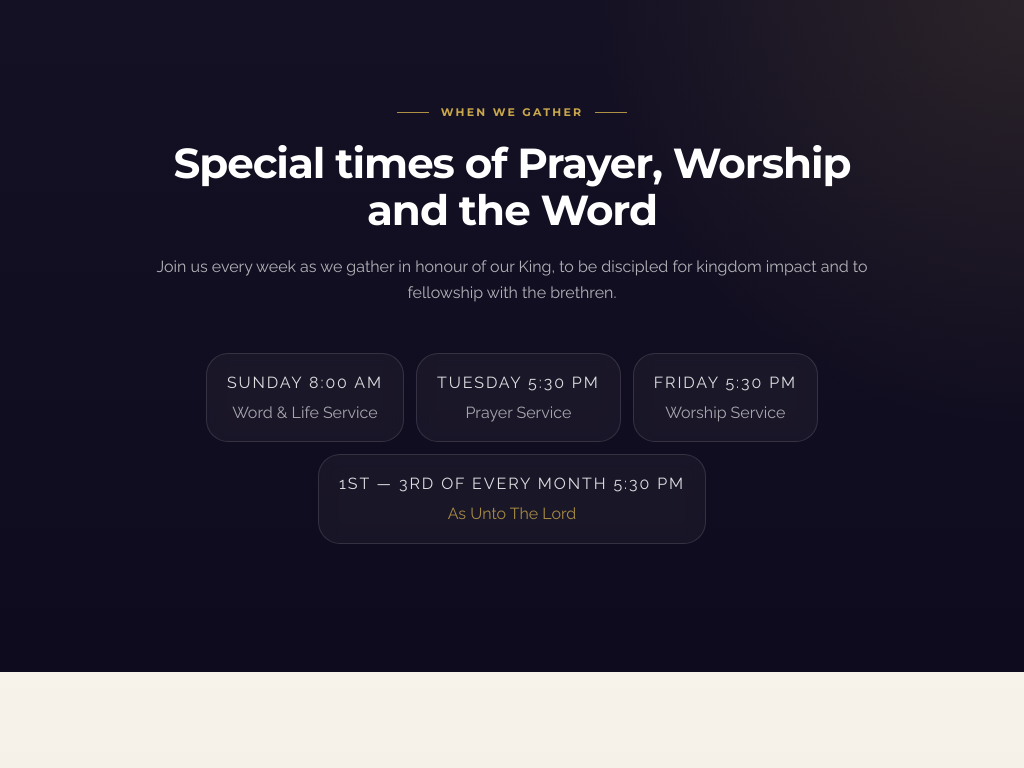
Test case: ServiceSchedule › clicking Word & Life Service marks it active and shows it in the detail card
Click the button "Sunday 8:00 AM Word & Life Service" at (305, 398), box x1=206 y1=353 x2=404 y2=442
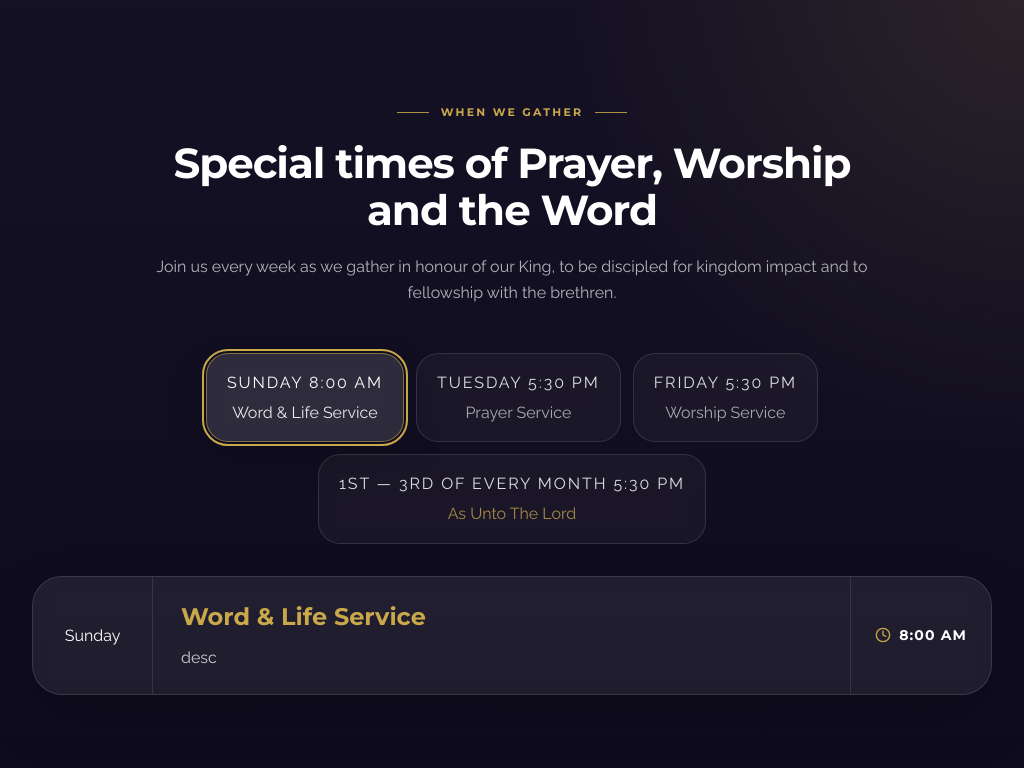
Expected: the element showing "Sunday Word & Life Service desc 8:00 AM" is shown, x1=32 y1=576 x2=992 y2=695
